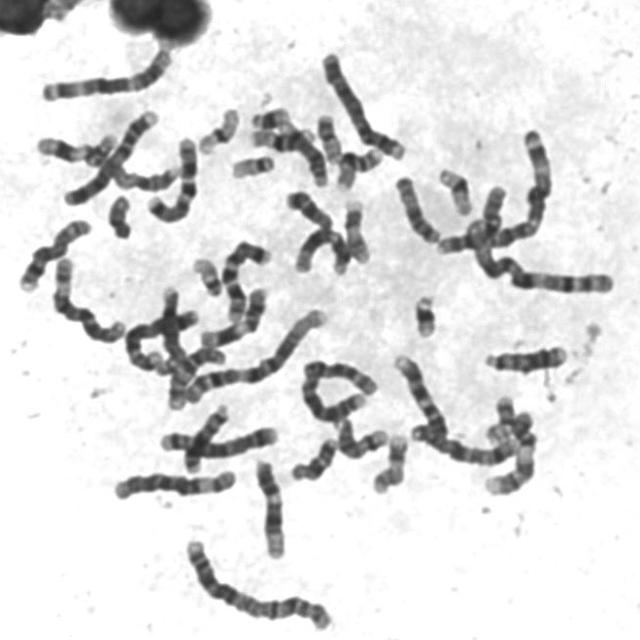A1: (172, 302, 332, 409), (463, 214, 619, 298)
A2: (179, 532, 336, 634), (295, 353, 382, 426)
A3: (471, 120, 557, 252), (35, 44, 178, 105)
B4: (316, 45, 408, 163), (58, 104, 162, 208)
B5: (119, 302, 202, 375), (154, 418, 282, 458)
C10: (432, 182, 507, 258), (162, 342, 229, 412)
C11: (195, 281, 272, 350), (31, 128, 121, 168)
C12: (250, 455, 290, 561), (288, 223, 352, 278)
C6: (47, 251, 129, 346), (108, 462, 241, 503)
C7: (142, 131, 201, 225), (216, 233, 276, 325)
C8: (13, 212, 95, 295), (153, 284, 190, 378)
C9: (388, 349, 452, 445), (482, 408, 540, 498)
D13: (180, 398, 233, 476), (478, 338, 570, 376)
D14: (276, 118, 330, 188), (330, 411, 390, 462)
D15: (388, 170, 444, 247), (108, 162, 185, 194)
E16: (330, 142, 386, 194), (244, 122, 318, 154)
E17: (367, 428, 411, 497), (339, 194, 374, 266)
E18: (285, 432, 341, 484), (281, 185, 336, 232)
F19: (193, 102, 243, 156), (431, 165, 477, 218)
F20: (480, 392, 518, 446), (312, 108, 345, 166)
G21: (408, 288, 440, 340), (246, 102, 291, 132)
G22: (188, 251, 225, 299), (225, 150, 278, 182)
X: (406, 417, 521, 468)
Y: (102, 190, 135, 242)
